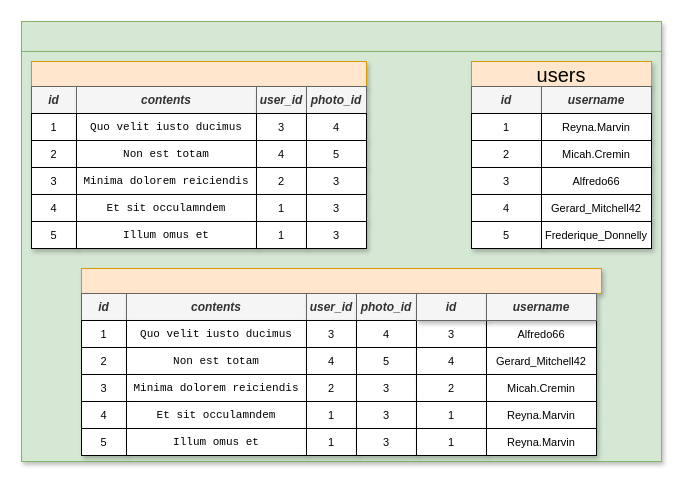
The diagram is 685 pixels wide and 486 high, and some of its shapes have lost their labels. The centre of each missing label's shape, as x and y in pixels:
comments: the point at 199,75
comments with users: the point at 342,282
Database: the point at 342,37
